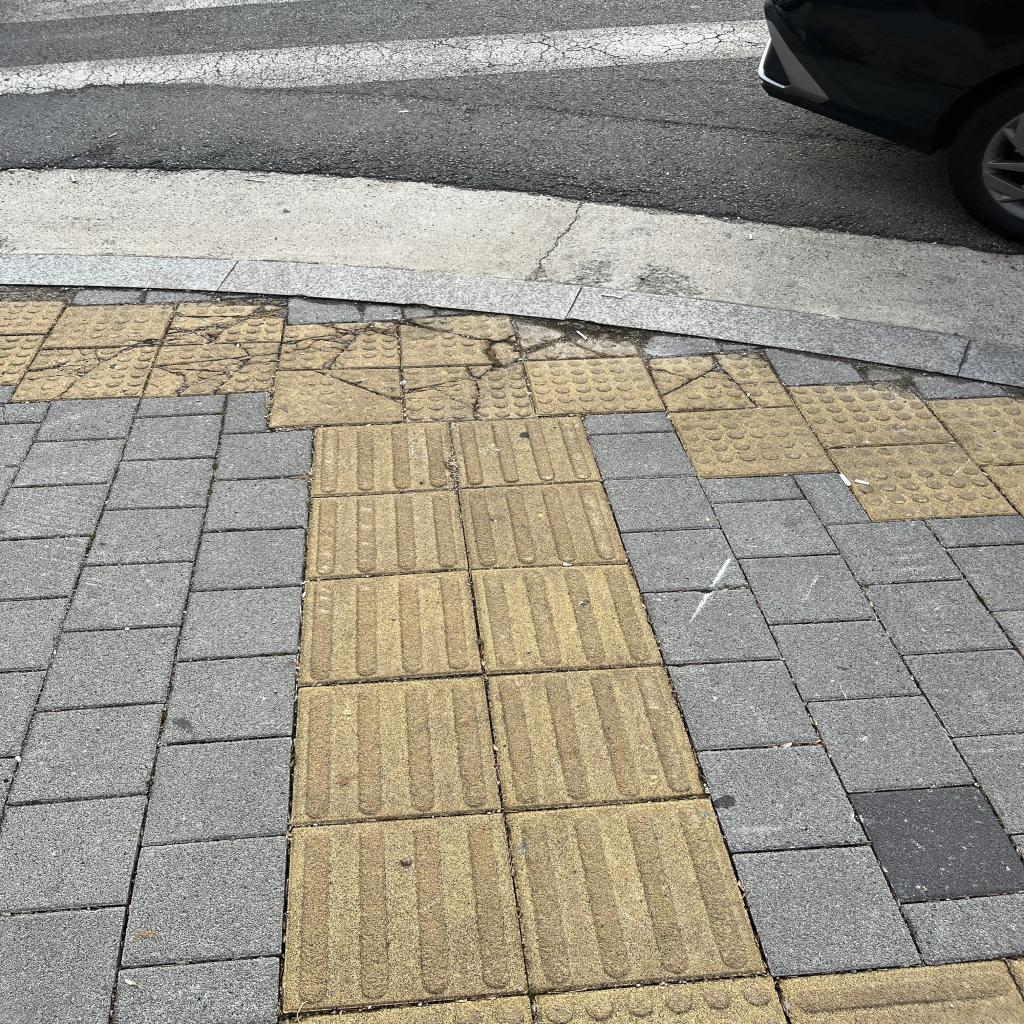Stop block broken: (9, 345, 160, 401), (268, 366, 402, 427), (404, 363, 536, 423), (143, 341, 280, 396), (162, 299, 288, 344)
Stop block normal: (671, 406, 834, 477), (526, 356, 665, 415)
Straight block normal: (283, 674, 499, 822), (461, 482, 628, 568)
